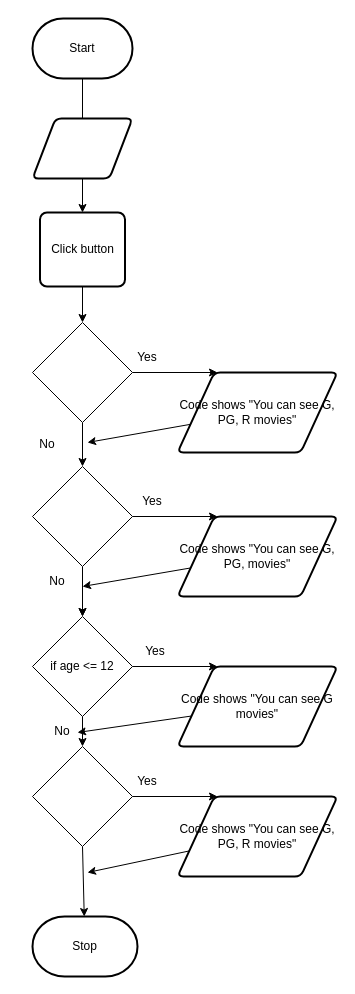
Image size: 355x994. Some labels were removed from this diagram. Each missing label, with the centre of its shape:
"else" goes at (82,796).
"if age >= 13" goes at (82,516).
"if age >= 17" goes at (82,372).
"User inputs their age" goes at (82,148).
